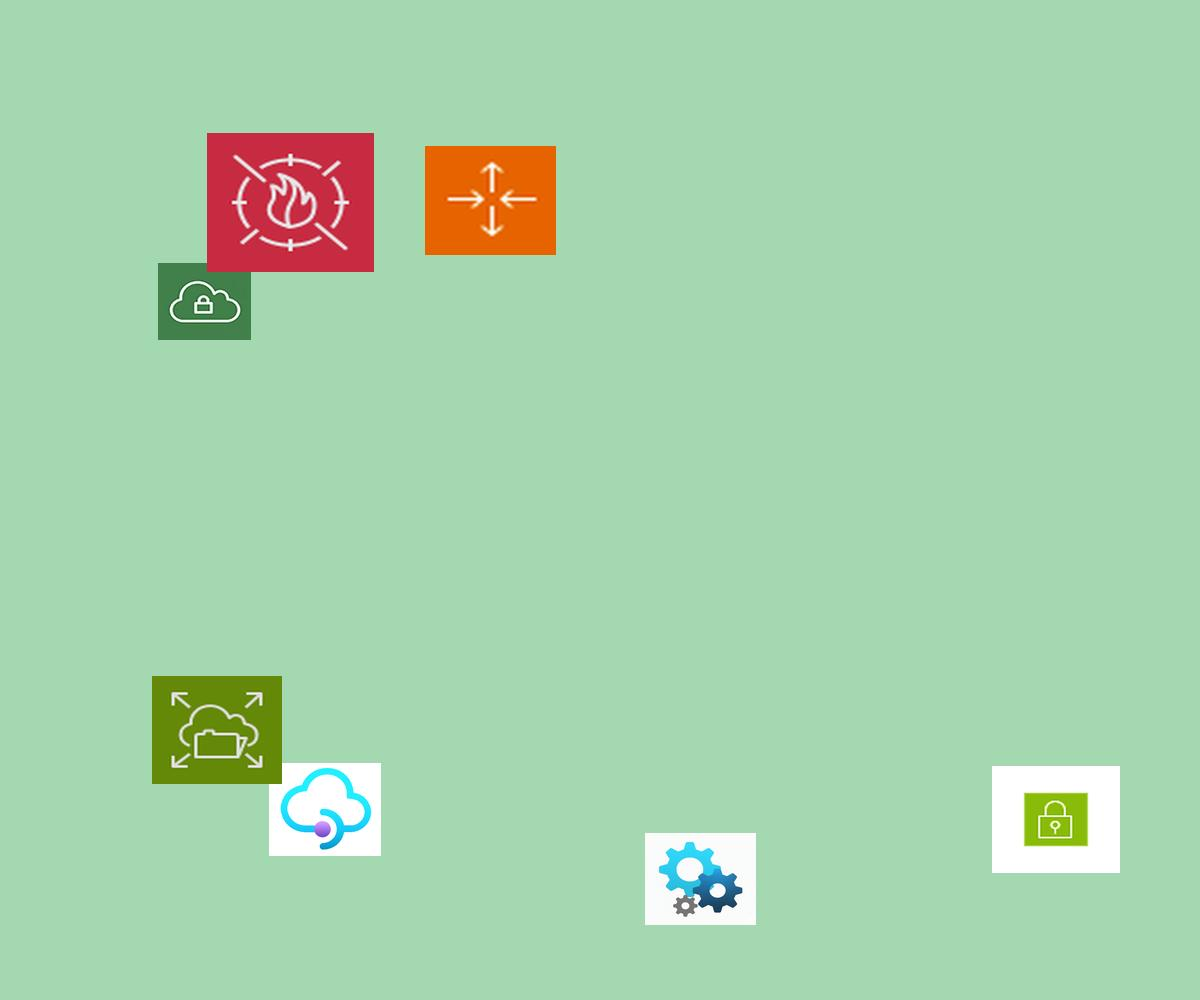AWS-EFS: (152, 676, 282, 784)
AWS-Private_vpc: (158, 263, 251, 340)
AWS-Public-subnet: (992, 766, 1120, 873)
AWS-Scaling-group: (425, 146, 556, 255)
AWS-WAF: (207, 133, 374, 272)
Azure_api: (645, 833, 756, 925)
Azure_api_gateway: (269, 763, 381, 856)
